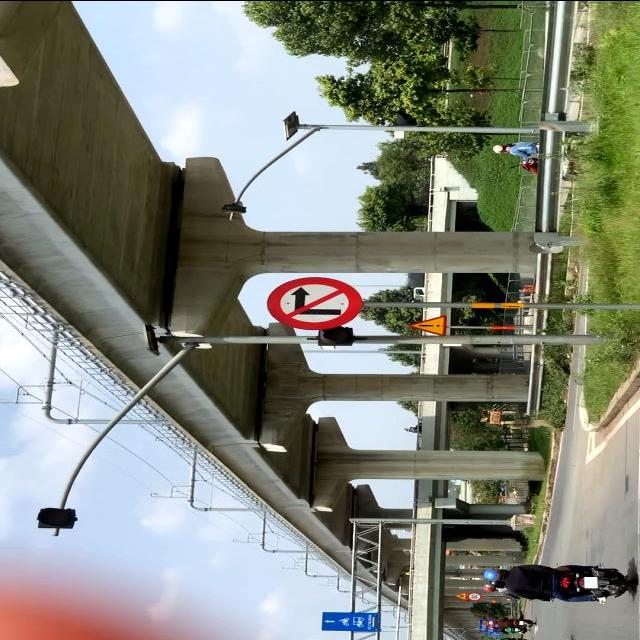P-123b: (264, 275, 364, 329)
W-233: (406, 316, 450, 338)
